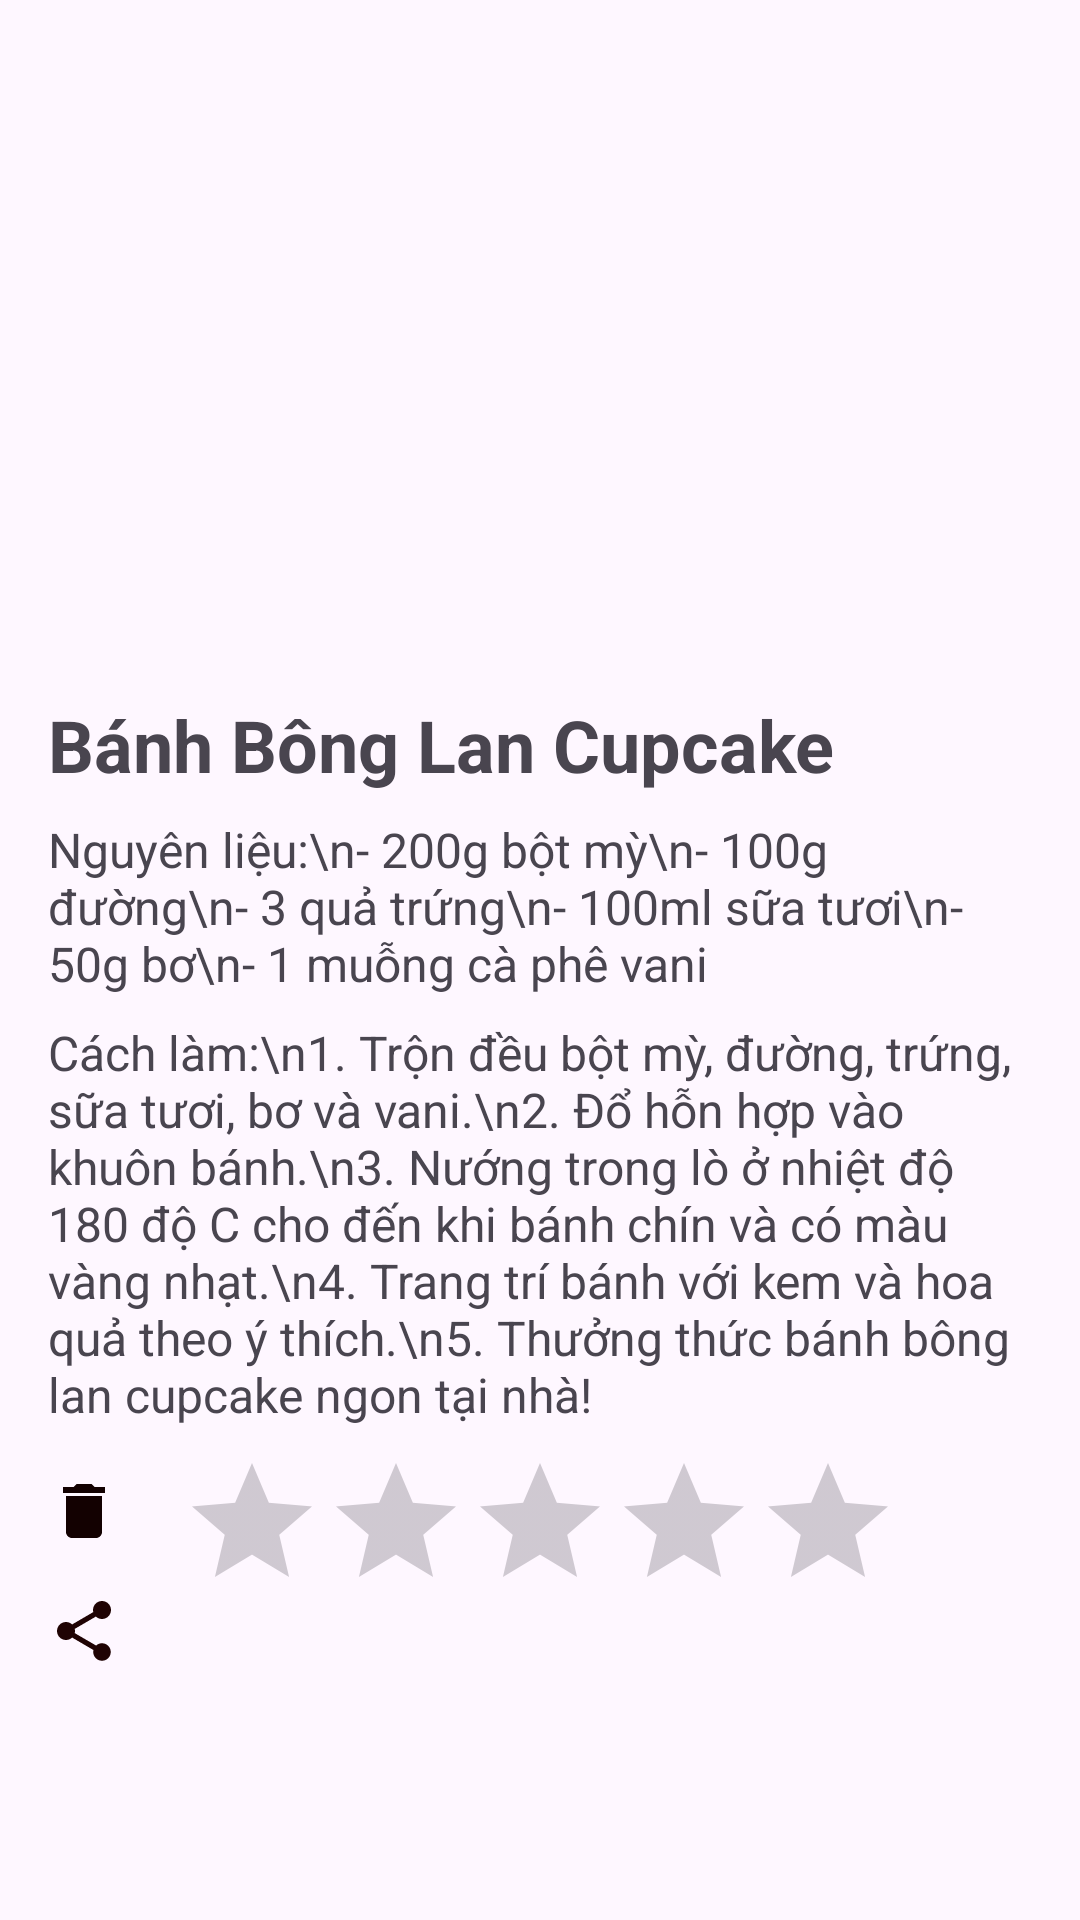

Where icons sit on this 1080w x 1920h app screen, as box=[x1, y1, x2, y2]:
delete: box=[63, 1484, 105, 1538]
share: box=[57, 1601, 111, 1661]
